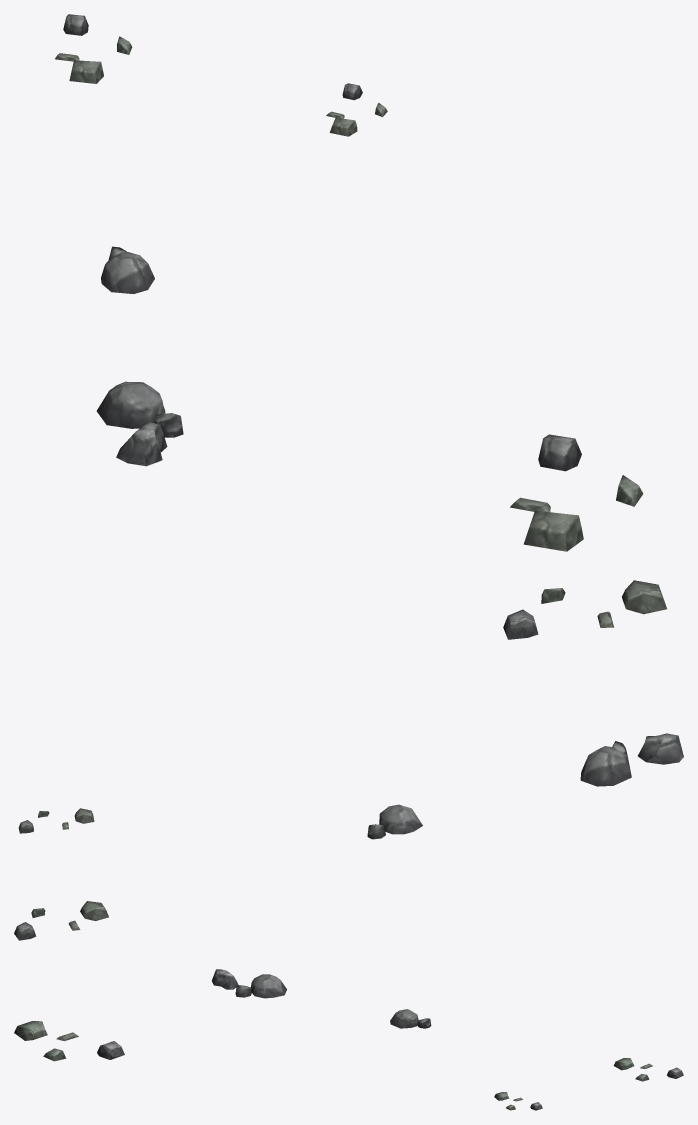
Rendered from Area_08_27.fbx.
The picture shows the model from 3 angles, top to bottom: view 1: azimuth 30°, elevation 25°; view 2: azimuth 150°, elevation 25°; view 3: azimuth 270°, elevation 25°; orthographic projection. The views are drawn at different scales.
Parts seen in each view (by area): view 1: Area_08_27; view 2: Area_08_27; view 3: Area_08_27.
Part boxes in pixels (left/top/right/bottom): Area_08_27: left=55, top=14, right=643, bottom=551; Area_08_27: left=14, top=580, right=683, bottom=940; Area_08_27: left=14, top=969, right=683, bottom=1110.
Bounding box in the file's own units: 1912 × 116 × 4001.
